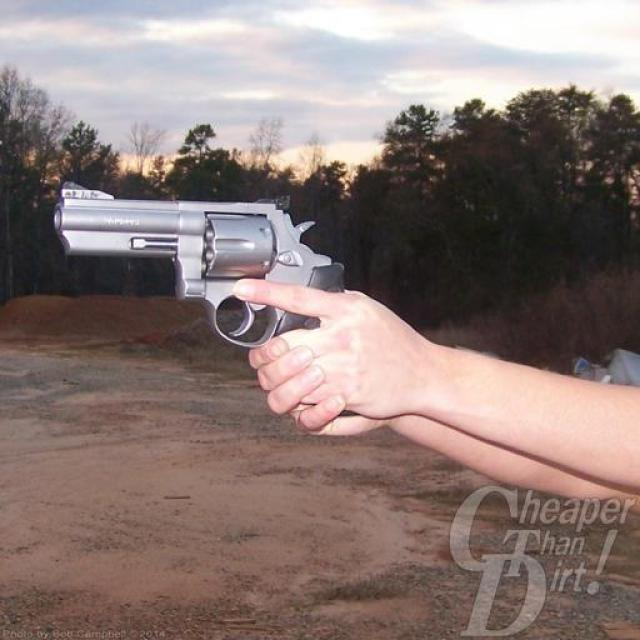pistol: (40, 176, 366, 422)
